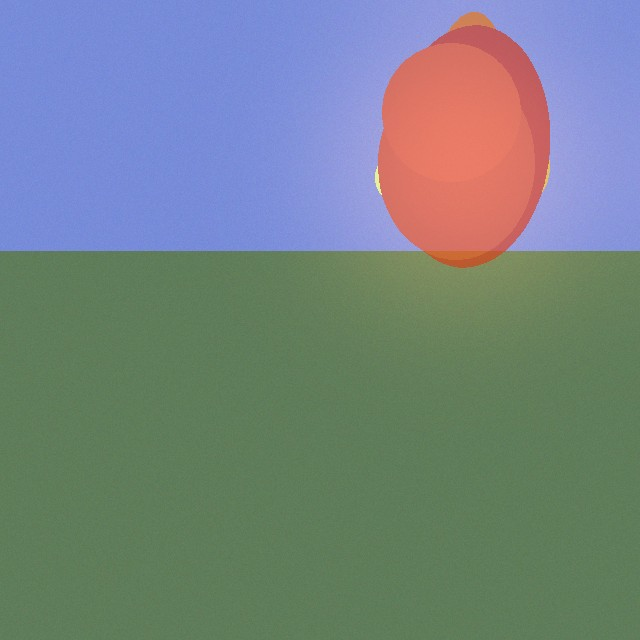fire: (377, 111, 549, 221)
